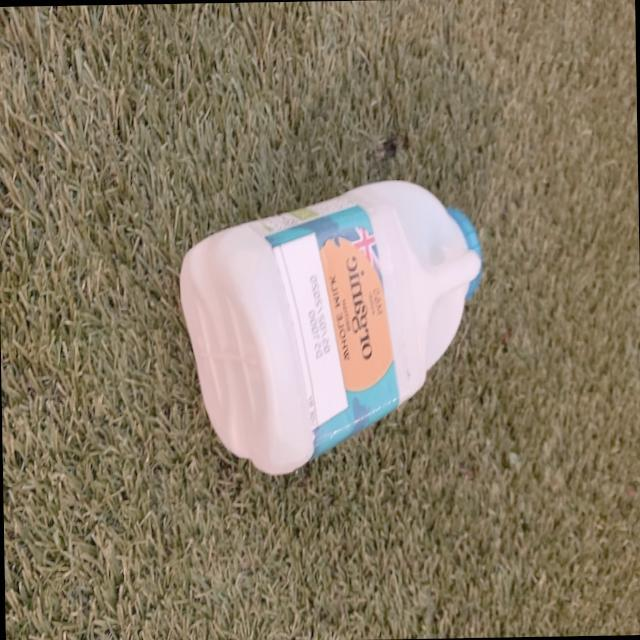HDPE Plastic: (178, 177, 488, 481)
